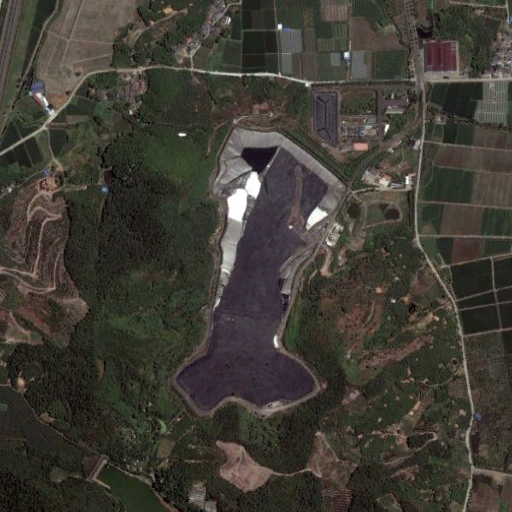lf: (171, 122, 356, 419)
